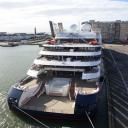cruises: (7, 23, 108, 123)
